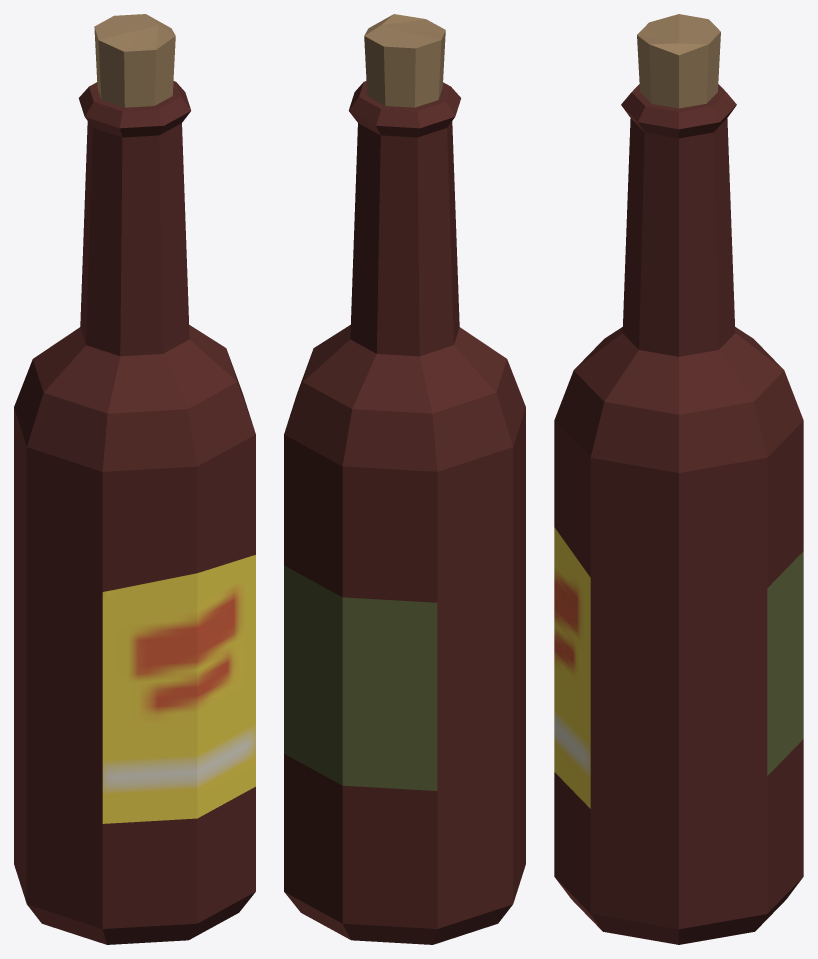
File: SM_Prop_Bottle_Large_06.obj
3 renders of one model, left to right at view 1: azimuth 30°, elevation 25°; view 2: azimuth 150°, elevation 25°; view 3: azimuth 270°, elevation 25°, orthographic.
Visible parts, largest first — view 1: SM_Prop_Bottle_Large_06_0; view 2: SM_Prop_Bottle_Large_06_0; view 3: SM_Prop_Bottle_Large_06_0.
Boxes of the visible parts, bbox=[...] form: SM_Prop_Bottle_Large_06_0: bbox=[14, 14, 255, 944]; SM_Prop_Bottle_Large_06_0: bbox=[284, 14, 525, 944]; SM_Prop_Bottle_Large_06_0: bbox=[554, 14, 803, 944].
Bounding box in the file's own units: 0.1224 × 0.4702 × 0.1224.
Materials: 1 (1 with a texture image).
